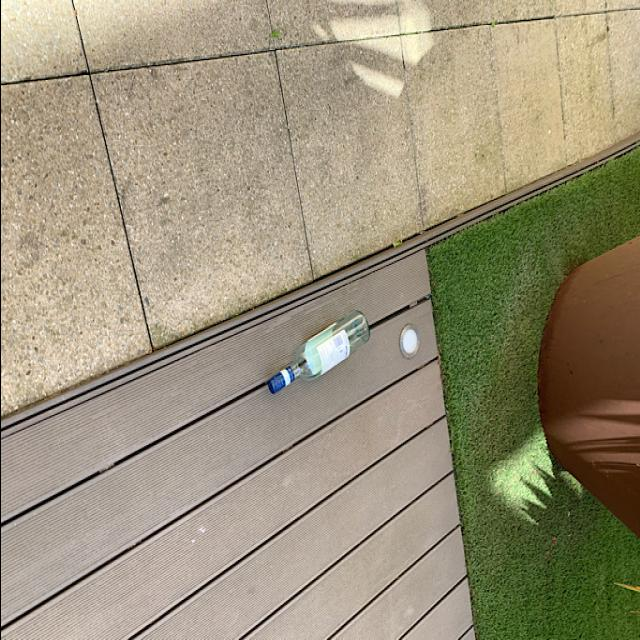Glass Bottle: (259, 298, 373, 404)
